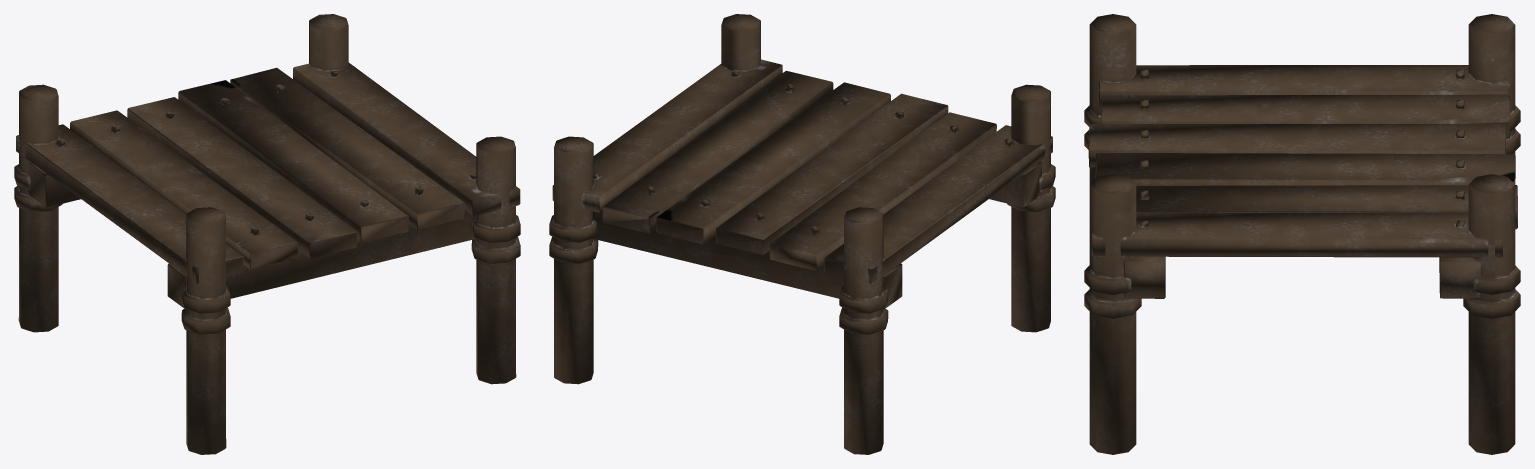
Rendered from Muelle_Recto.fbx.
The picture shows the model from 3 angles, left to right: view 1: azimuth 30°, elevation 25°; view 2: azimuth 150°, elevation 25°; view 3: azimuth 270°, elevation 25°; orthographic projection. The views are drawn at different scales.
Visible parts, largest first — view 1: Muelle_Recto; view 2: Muelle_Recto; view 3: Muelle_Recto.
Part boxes in pixels (<box>): Muelle_Recto: <box>14,14,520,454</box>; Muelle_Recto: <box>549,14,1055,454</box>; Muelle_Recto: <box>1084,14,1520,454</box>.
Size of the model in its own units: 8.29 by 5.5 by 8.29.
